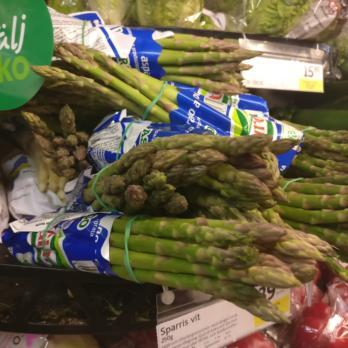Asparagus: (85, 131, 348, 242), (115, 219, 337, 297), (48, 42, 177, 127), (159, 29, 250, 92)
